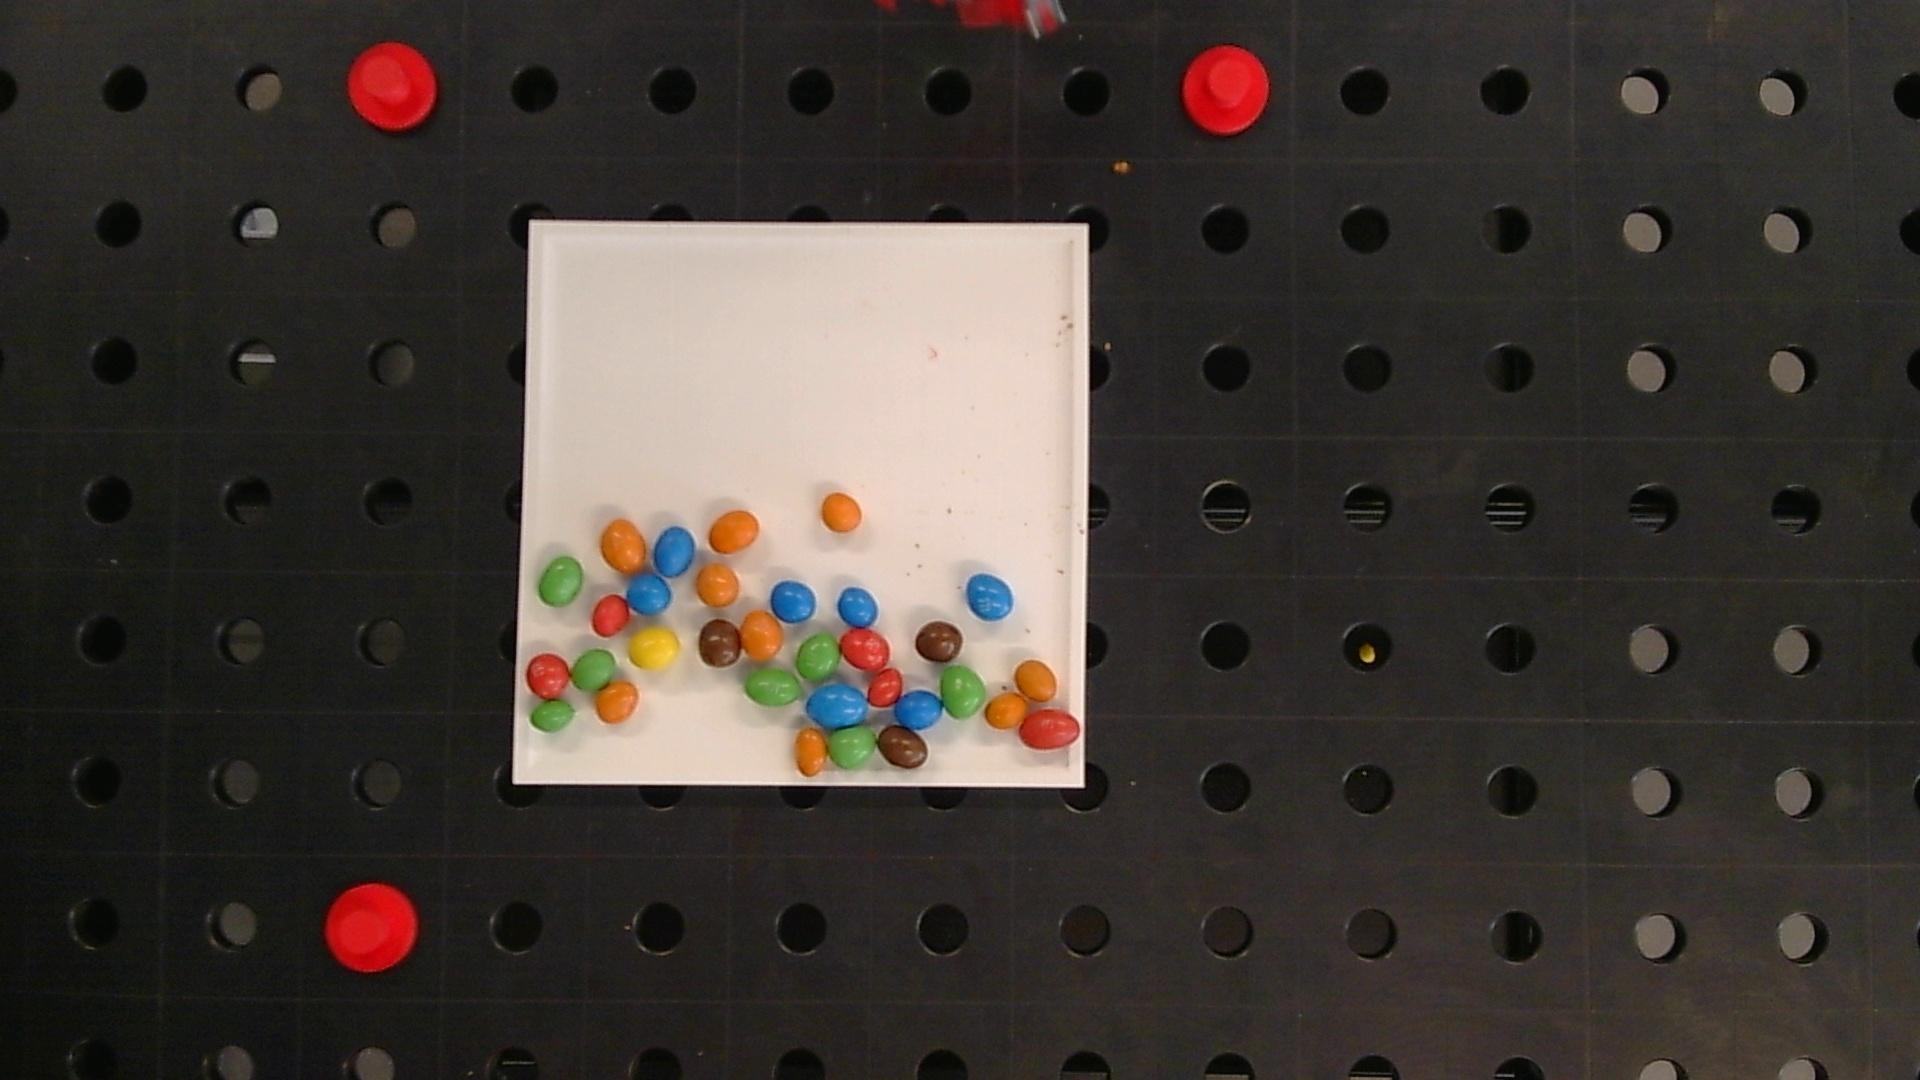blue: (807, 683, 868, 727), (967, 574, 1014, 620), (653, 526, 696, 576), (770, 580, 818, 622), (894, 691, 943, 729), (626, 574, 671, 615), (837, 587, 878, 628)
brown: (877, 724, 928, 769), (699, 620, 742, 667), (915, 620, 963, 663)
green: (942, 666, 986, 717), (538, 556, 583, 605), (745, 670, 800, 707), (795, 634, 839, 680), (829, 727, 877, 769), (572, 649, 615, 691), (530, 700, 576, 733)
orange: (601, 518, 646, 572), (740, 609, 783, 662), (709, 509, 760, 553), (595, 680, 638, 724), (696, 563, 740, 607), (1015, 659, 1058, 702), (795, 728, 828, 777), (822, 492, 861, 531), (985, 694, 1027, 728)
red: (1018, 711, 1080, 748), (526, 653, 571, 699), (840, 629, 890, 670), (591, 595, 630, 637), (868, 669, 902, 707)
yellow: (629, 626, 680, 671)
